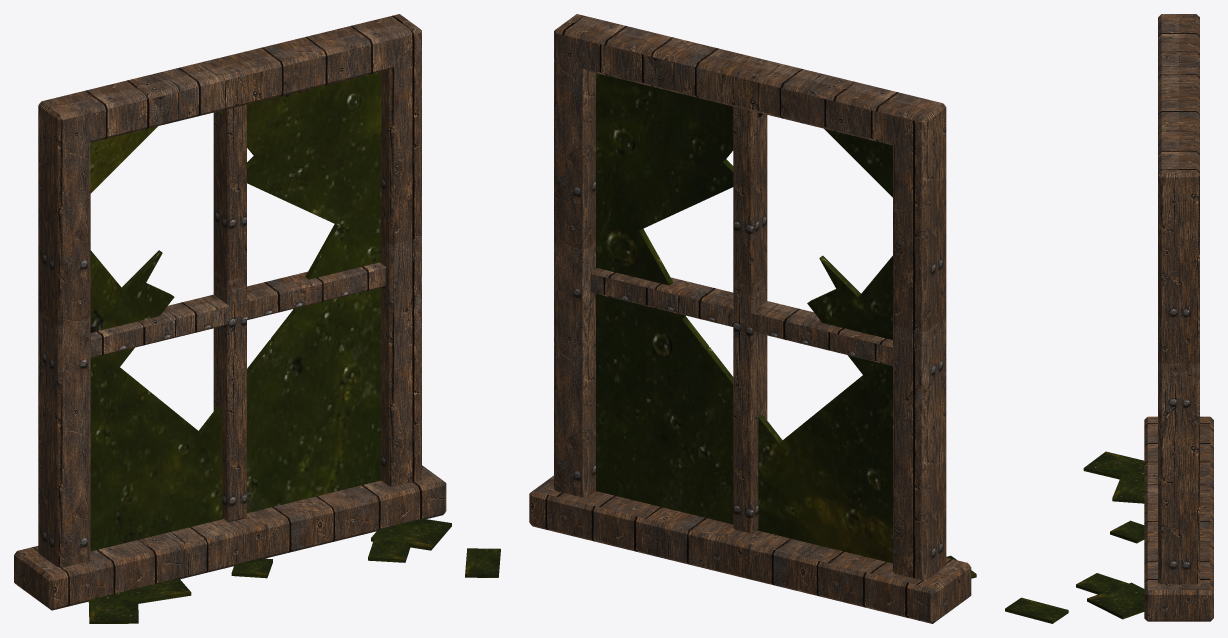
File: broken-window-v01.glb
3 views of the same model, side by side, from view 1: azimuth 30°, elevation 25°; view 2: azimuth 150°, elevation 25°; view 3: azimuth 270°, elevation 25° (orthographic). The views are drawn at different scales.
Visible parts, largest first — view 1: broken-window; view 2: broken-window; view 3: broken-window.
Part boxes in pixels (x1=…): broken-window: x1=14, y1=14, x2=500, y2=623; broken-window: x1=529, y1=14, x2=976, y2=623; broken-window: x1=1005, y1=14, x2=1213, y2=623.
Size of the model in its own units: 1.21 by 1.4 by 0.5996.
2 materials, 2 textured.
